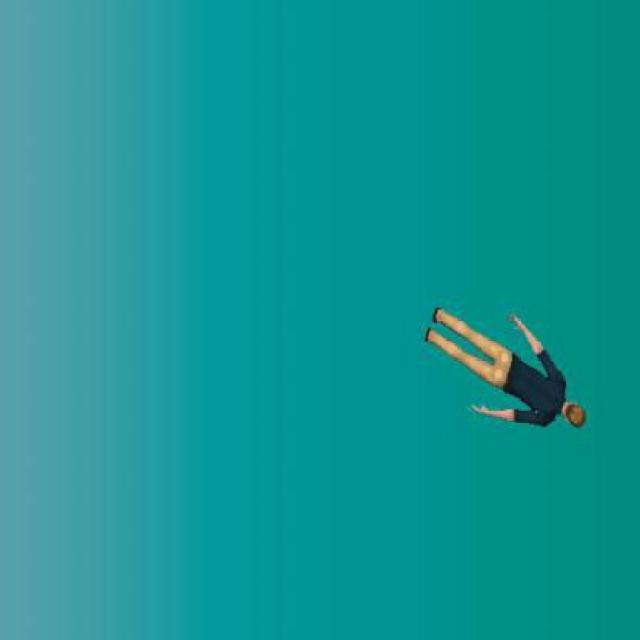Person: (423, 301, 589, 434)
